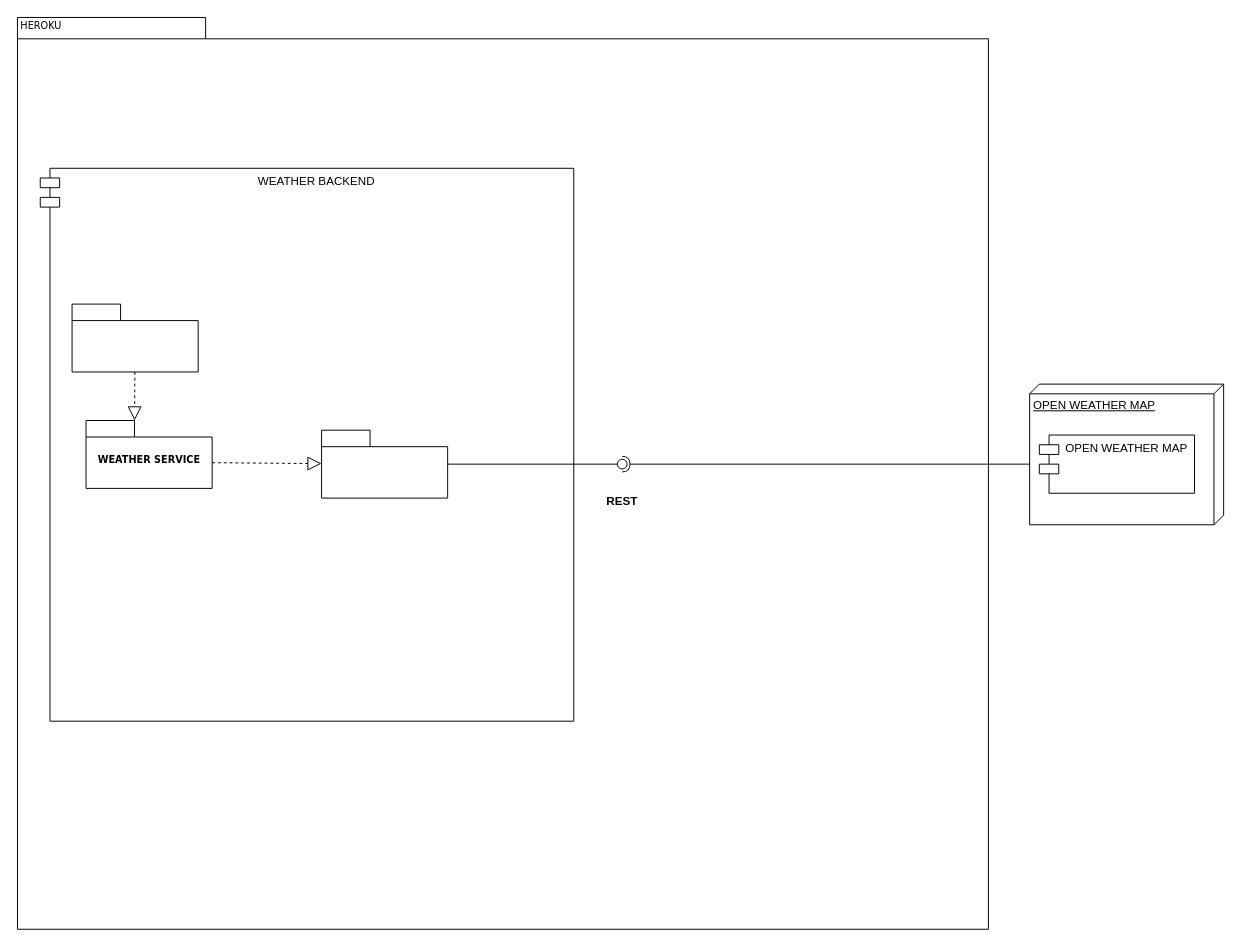
Some shapes in this 1241 by 946 pixel diagram are drawn without their labels. Each missing label, with the centre of its shape:
"CONSULT API" goes at point 384,463.
"WEATHER CONTROLLER" goes at point 134,337.
